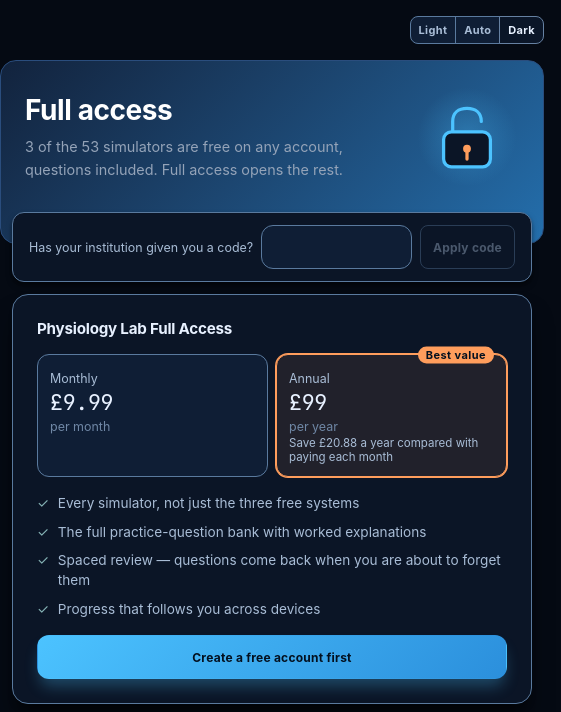
Test: pricing page › redeems a licence code and names the institution back
This screenshot has width=561, height=712.
Type "QRSTUVWXYZ" into the field labelled "Has your institution given you a code?". click: (337, 247)
box: [261,225,412,269]
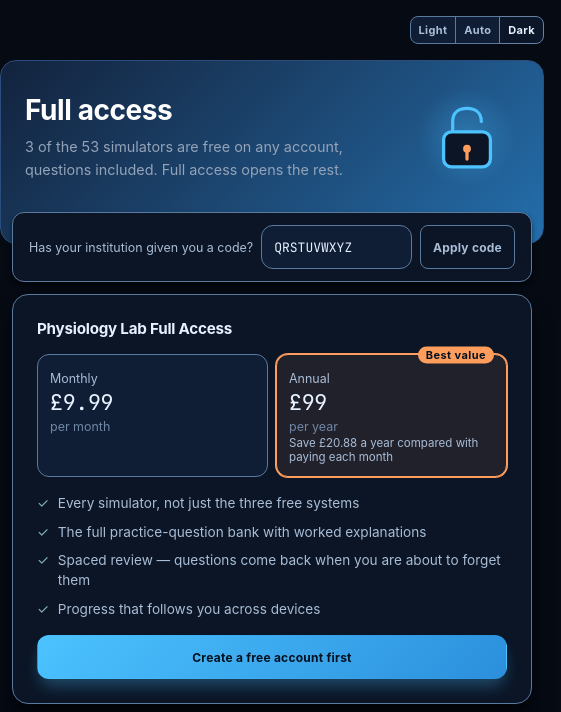
Click the button "Apply code". click: (467, 247)
box: [420,225,515,269]
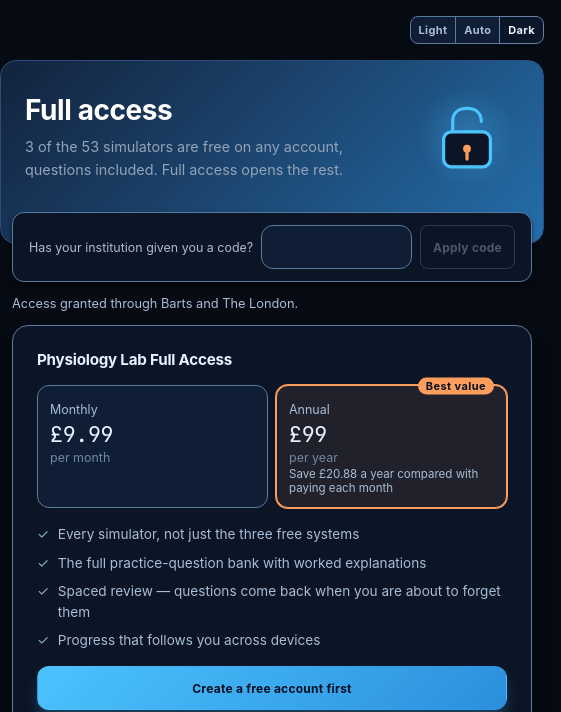
expect the text "Access granted through Barts and The London." is shown: met, box [12,296,298,311]
